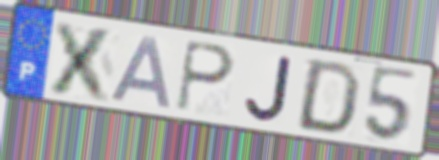5: (361, 62, 422, 146)
A: (106, 33, 174, 112)
D: (292, 56, 364, 136)
J: (243, 53, 295, 124)
P: (174, 37, 237, 114)
X: (45, 18, 120, 105)
